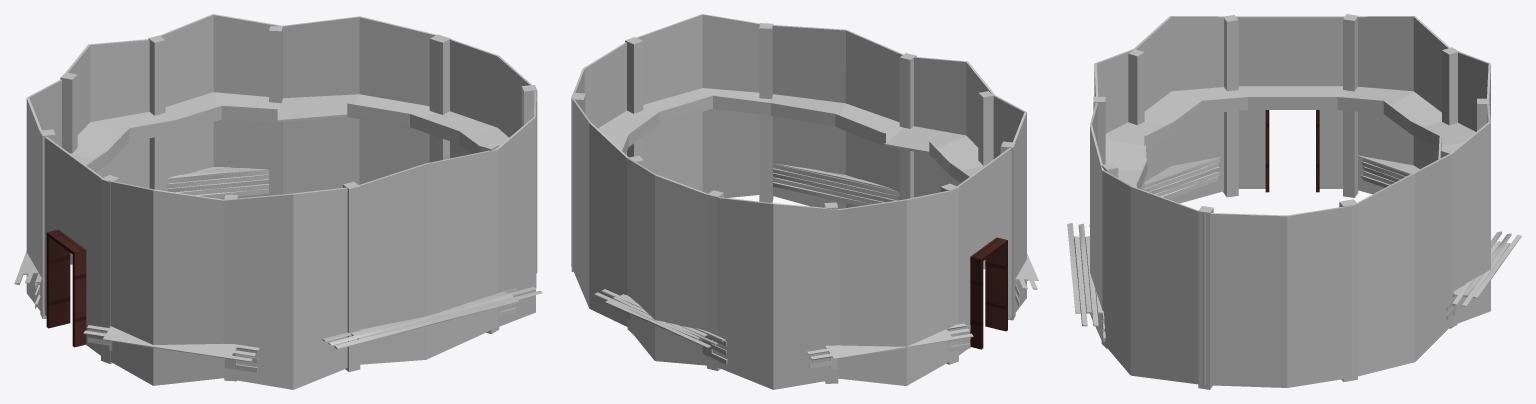
The model's file is _house_empty.fbx.
The picture shows the model from 3 angles, left to right: view 1: azimuth 30°, elevation 25°; view 2: azimuth 150°, elevation 25°; view 3: azimuth 270°, elevation 25°; orthographic projection. The views are drawn at different scales.
Visible parts, largest first — view 1: Cube.009, Cube.004, Plane.004, Plane.001, Plane.003, Plane.002; view 2: Cube.009, Cube.004, Plane.004, Plane.002, Plane.001, Plane.003; view 3: Cube.009, Plane.004, Plane.003, Plane.001, Plane.002, Cube.004.
Part boxes in pixels (x1,y1,x2,y2): Cube.009: (26,14,537,389); Cube.004: (46,229,86,347); Plane.004: (322,287,542,355); Plane.001: (166,167,268,198); Plane.003: (83,325,259,372); Plane.002: (14,251,41,308); Cube.009: (571,14,1026,389); Cube.004: (970,237,1007,349); Plane.004: (773,163,899,205); Plane.002: (807,323,973,370); Plane.001: (594,289,727,364); Plane.003: (1015,253,1038,306); Cube.009: (1090,14,1490,389); Plane.004: (1067,223,1105,342); Plane.003: (1144,157,1220,199); Plane.001: (1446,231,1521,319); Plane.002: (1357,155,1419,187); Cube.004: (1265,110,1319,192).
Size of the model in its own units: 2577 by 1074 by 2340.
